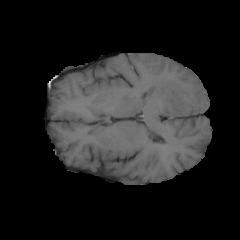glioma: (142, 78, 182, 110)
